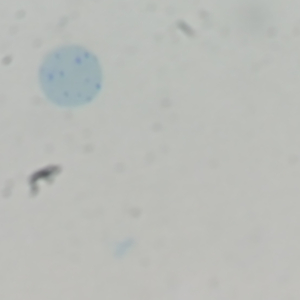punctate reticulocyte: (36, 44, 104, 110)
